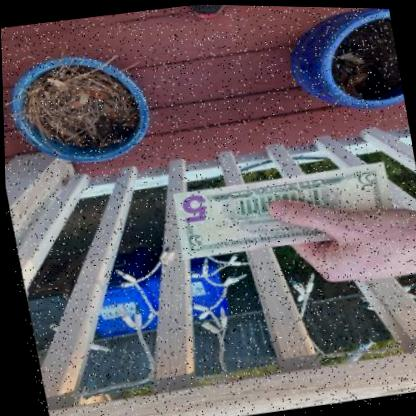five-back: (167, 158, 395, 262)
